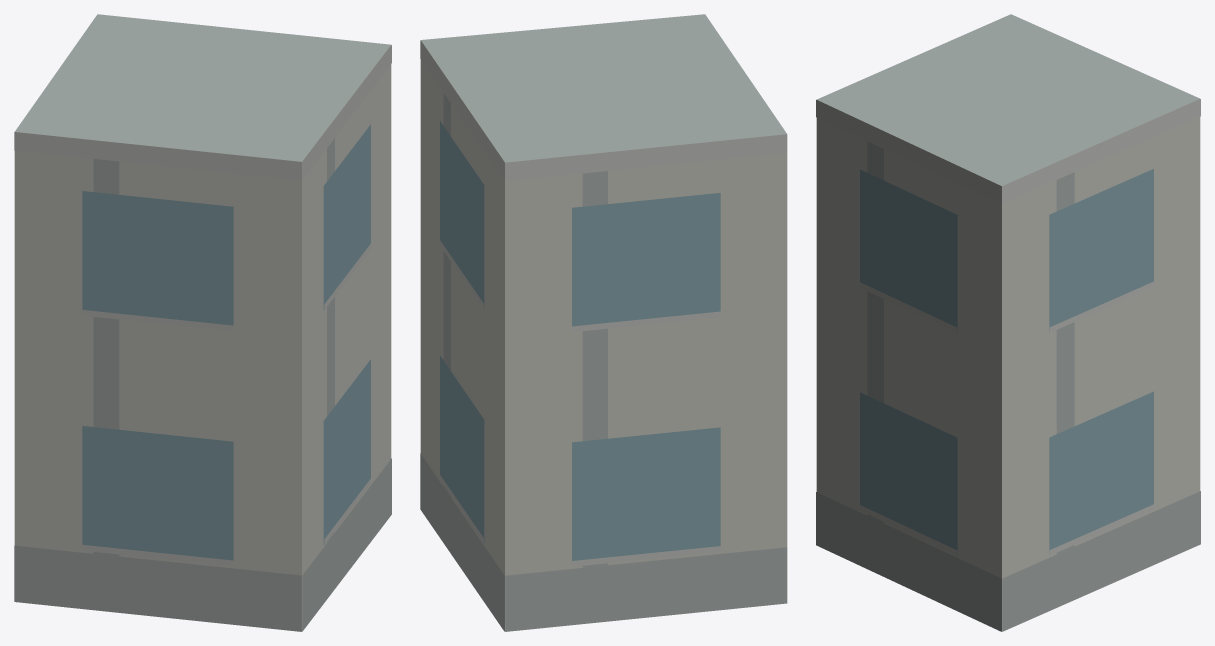
Rendered from survey-upis-32944520.glb.
3 renders of one model, left to right at view 1: azimuth 30°, elevation 25°; view 2: azimuth 150°, elevation 25°; view 3: azimuth 270°, elevation 25°, orthographic. The views are drawn at different scales.
Parts seen in each view (by area): view 1: survey-upis-32944520.tmp; view 2: survey-upis-32944520.tmp; view 3: survey-upis-32944520.tmp.
Boxes of the visible parts, box(x1,y1,x2,y2) form: survey-upis-32944520.tmp: box(14, 14, 391, 631); survey-upis-32944520.tmp: box(420, 14, 787, 631); survey-upis-32944520.tmp: box(816, 14, 1200, 631).
Size of the model in its own units: 5.06 by 6.1 by 4.77.
